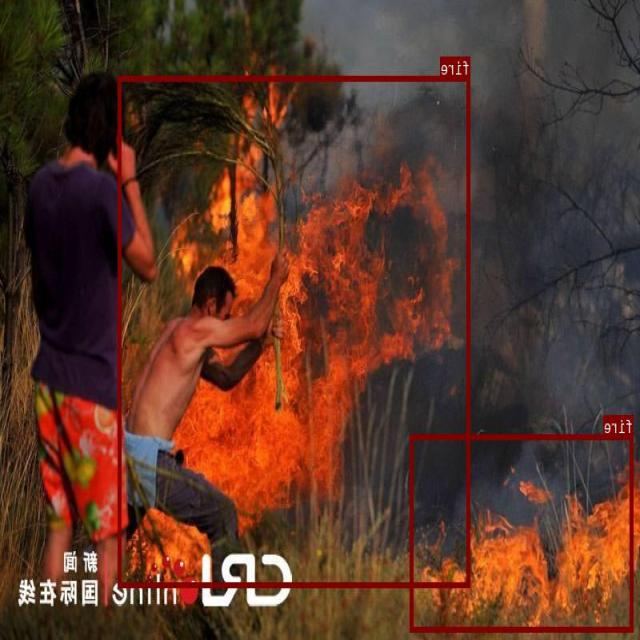fire: (119, 75, 471, 586), (410, 434, 634, 630)
